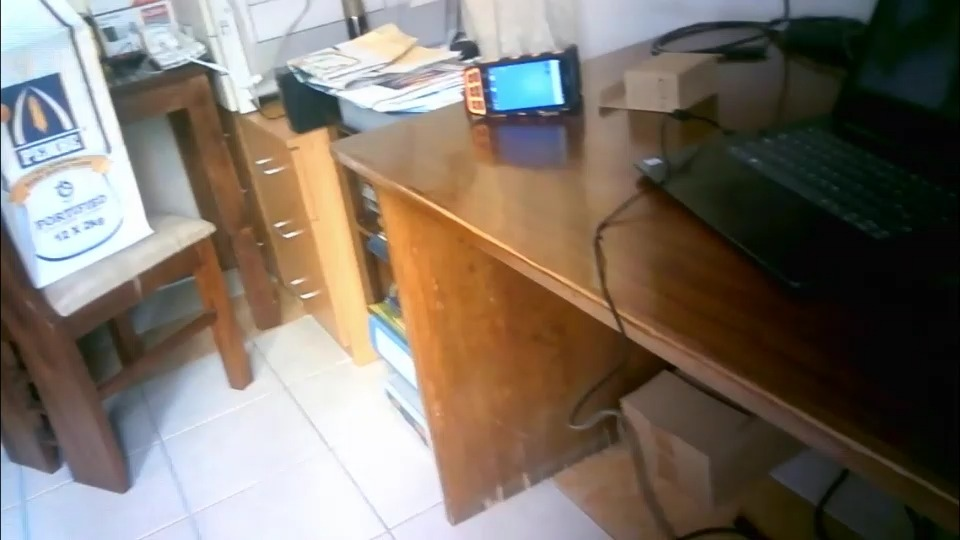wheat_flour_blue_label: (0, 3, 154, 285)
